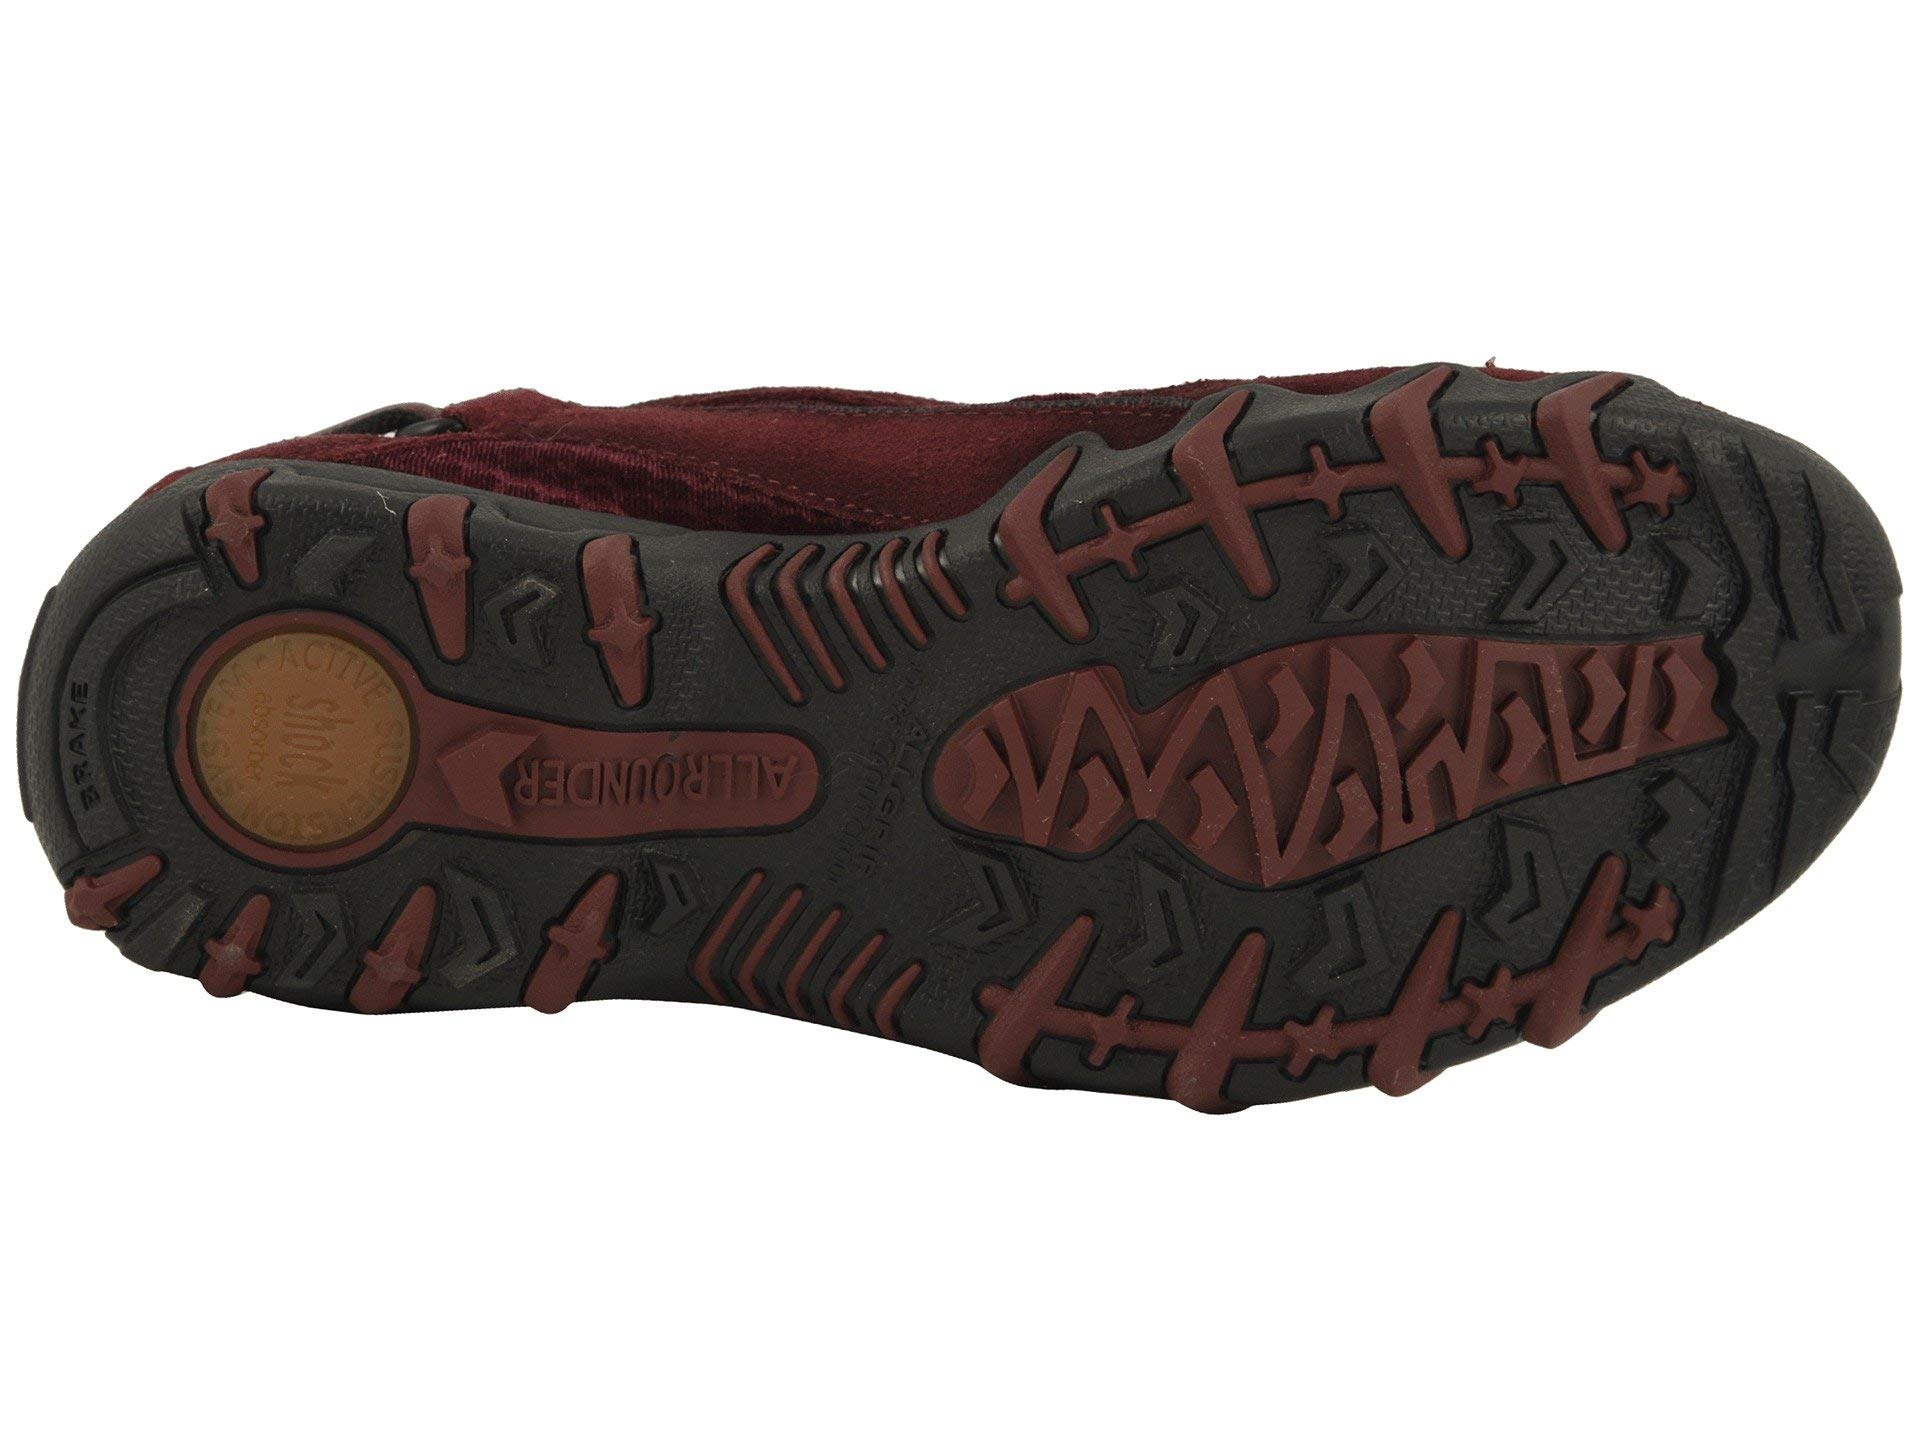chevron: (928, 623, 1320, 914), (509, 687, 848, 959), (466, 566, 591, 684)
circle: (138, 535, 452, 892), (509, 687, 848, 959)
text: (138, 535, 452, 892), (509, 687, 848, 959)
